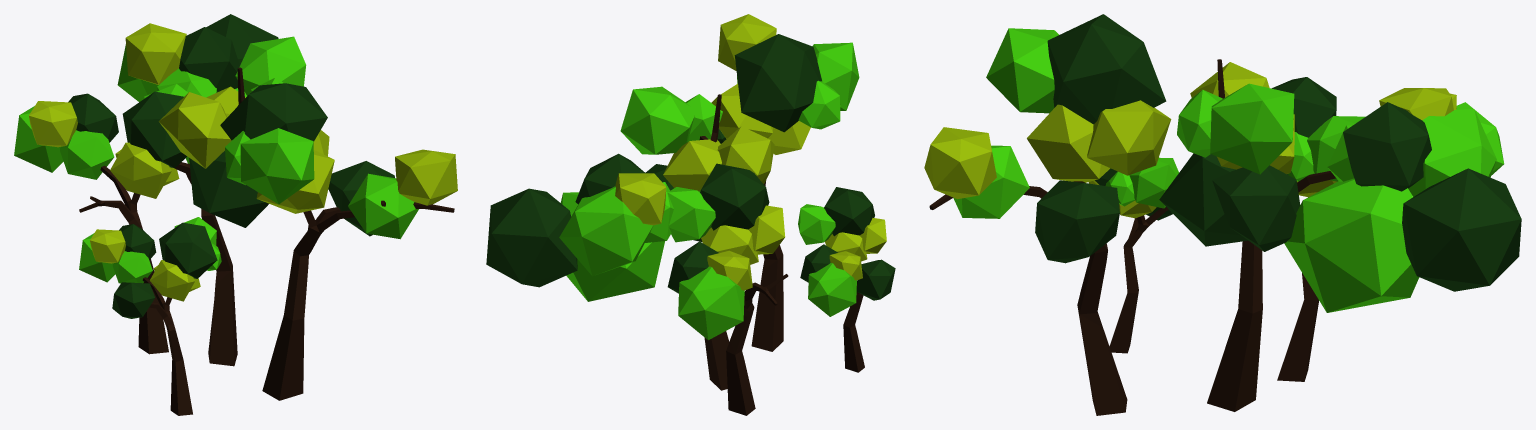
The model's file is green-toplu-agac.fbx.
3 views of the same model, side by side, from view 1: azimuth 30°, elevation 25°; view 2: azimuth 150°, elevation 25°; view 3: azimuth 270°, elevation 25° (orthographic). The views are drawn at different scales.
Parts seen in each view (by area): view 1: tree_007, leaf_4.022, leaf_4.024, leaf_4.006, tree_4, leaf_4.005, leaf_4.028, leaf_4.020, leaf_4.001, leaf_4.032, leaf_4.003, leaf_4.002 (+21 smaller); view 2: leaf_4.021, leaf_4.024, leaf_4, leaf_4.003, leaf_007, leaf_4.032, leaf_006, tree_006, tree_007, leaf_4.008, leaf_4.001, leaf_4.022 (+23 smaller); view 3: leaf_006, leaf_4.021, leaf_4.024, leaf_4.003, tree_4, leaf_4.002, leaf_4.026, leaf_4.007, tree_007, leaf_4.022, leaf_4.025, leaf_4.005 (+17 smaller).
Boxes of the visible parts, x1,y1,x2,y2 form: tree_007: (262,200,454,400); leaf_4.022: (240,128,314,204); leaf_4.024: (220,83,327,141); leaf_4.006: (159,92,231,168); tree_4: (175,67,244,366); leaf_4.005: (189,151,268,227); leaf_4.028: (348,173,418,239); leaf_4.020: (395,149,457,205); leaf_4.001: (125,23,186,84); leaf_4.032: (122,91,186,168); leaf_4.003: (235,36,306,95); leaf_4.002: (179,27,239,92); leaf_4.021: (486,188,577,287); leaf_4.024: (734,34,821,132); leaf_4: (559,186,653,276); leaf_4.003: (620,86,694,154); leaf_007: (678,266,744,340); leaf_4.032: (700,163,769,230); leaf_006: (560,192,664,301); tree_006: (726,274,788,415); tree_007: (751,180,783,351); leaf_4.008: (663,139,721,191); leaf_4.001: (615,173,666,225); leaf_4.022: (812,42,859,110); leaf_006: (1284,178,1419,312); leaf_4.021: (1402,168,1521,291); leaf_4.024: (1047,14,1166,124); leaf_4.003: (1210,83,1294,174); tree_4: (1207,59,1335,411); leaf_4.002: (1343,102,1431,191); leaf_4.026: (1035,180,1119,263); leaf_4.007: (1212,165,1300,251); tree_007: (929,181,1127,415); leaf_4.022: (986,28,1058,113); leaf_4.025: (1087,100,1171,175); leaf_4.005: (1159,153,1288,246).
Bounding box in the file's own units: 112 × 117 × 166.
